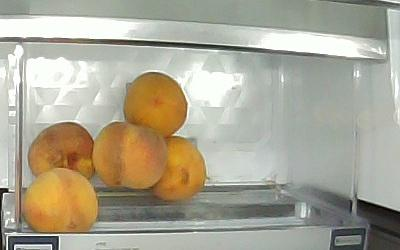peach: (93, 121, 167, 190), (24, 168, 98, 232), (123, 72, 188, 136), (28, 122, 95, 179), (153, 136, 206, 201)
